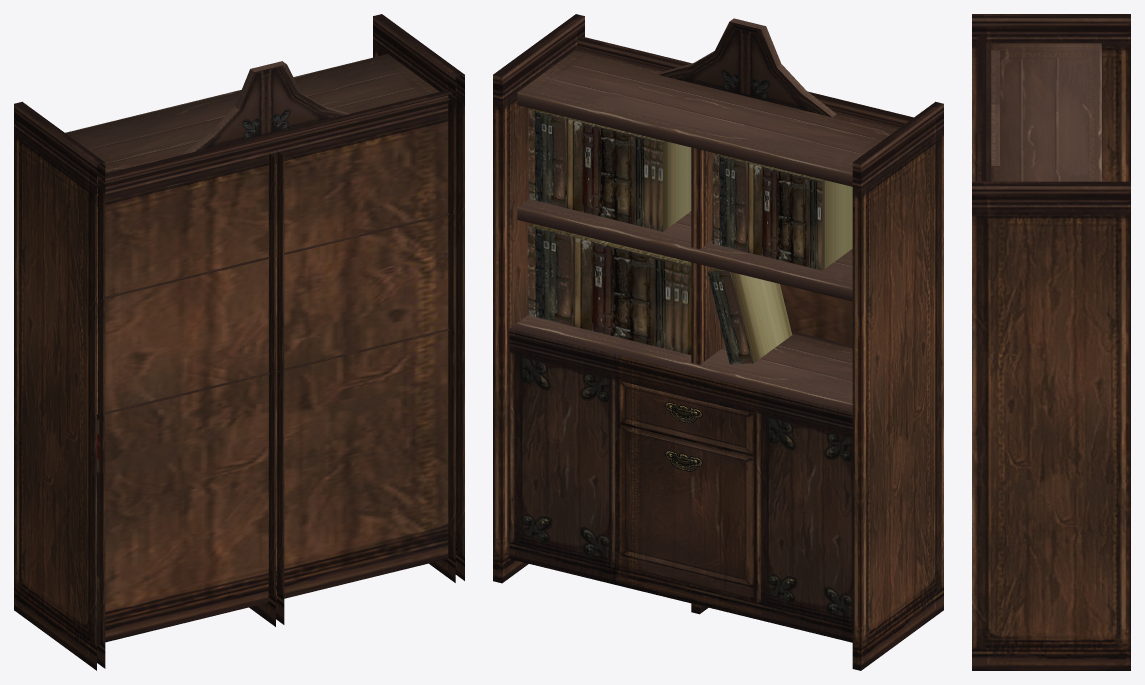
The model's file is furniture.FBX.
The picture shows the model from 3 angles, left to right: view 1: azimuth 30°, elevation 25°; view 2: azimuth 150°, elevation 25°; view 3: azimuth 270°, elevation 25°; orthographic projection. The views are drawn at different scales.
Parts seen in each view (by area): view 1: furniture; view 2: furniture; view 3: furniture.
Part boxes in pixels (x1=…): furniture: x1=14, y1=14, x2=464, y2=670; furniture: x1=493, y1=14, x2=943, y2=670; furniture: x1=972, y1=14, x2=1130, y2=670.
Size of the model in its own units: 2.04 by 2.91 by 0.7951.
